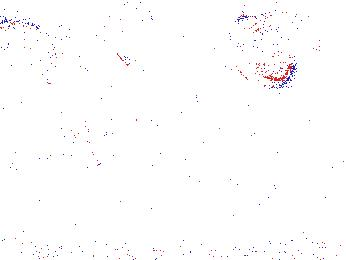moon jellyfish: (92, 4, 179, 71), (229, 14, 298, 89), (86, 115, 171, 174), (1, 19, 62, 86), (246, 11, 325, 54)
